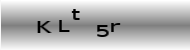5: (95, 23, 109, 38)
K: (36, 19, 53, 35)
L: (57, 18, 71, 33)
r: (109, 22, 121, 33)
t: (71, 8, 81, 21)
